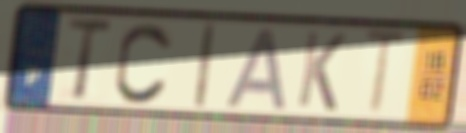A: (223, 25, 291, 112)
C: (112, 19, 176, 107)
I: (191, 20, 218, 112)
K: (294, 28, 349, 115)
T: (360, 26, 412, 121), (63, 17, 114, 104)
